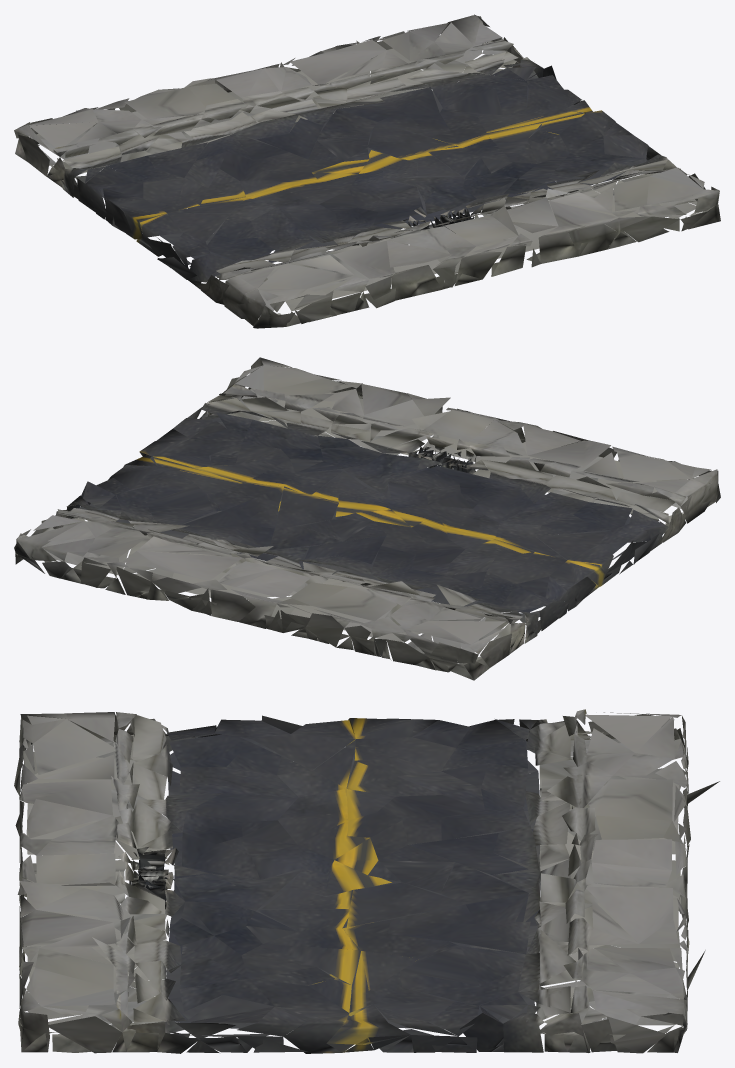
Rendered from World65b03a2587.glb.
The picture shows the model from 3 angles, top to bottom: view 1: azimuth 30°, elevation 25°; view 2: azimuth 150°, elevation 25°; view 3: azimuth 270°, elevation 25°; orthographic projection. The views are drawn at different scales.
Parts seen in each view (by area): view 1: World65b03a2587; view 2: World65b03a2587; view 3: World65b03a2587.
Boxes of the visible parts, bbox=[...] form: World65b03a2587: bbox=[14, 14, 720, 328]; World65b03a2587: bbox=[14, 357, 720, 680]; World65b03a2587: bbox=[14, 709, 719, 1053].
Bounding box in the file's own units: 4.19 × 0.3133 × 3.93.
Materials: 1 (1 with a texture image).
